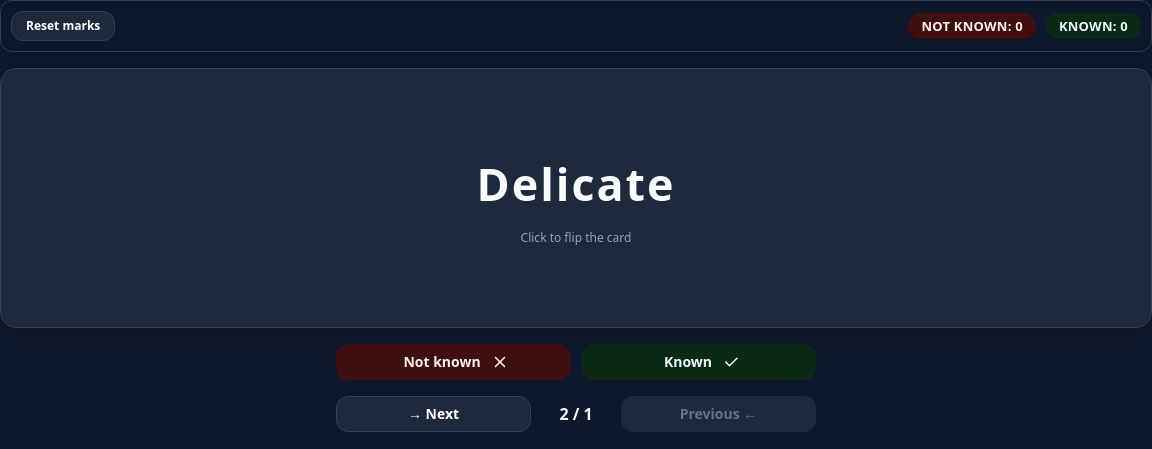
FlashcardsTab › clicking Known auto-advances to the next card after a short delay
Click the button "Known" at (699, 362), box [582,344,816,380]
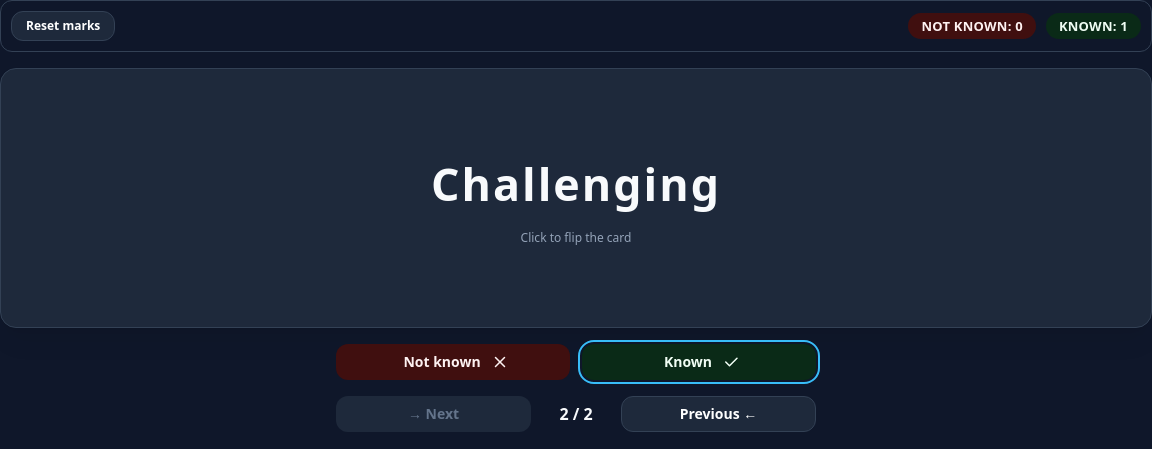
Expected: the text "Challenging" is shown, [431,149,721,218]
